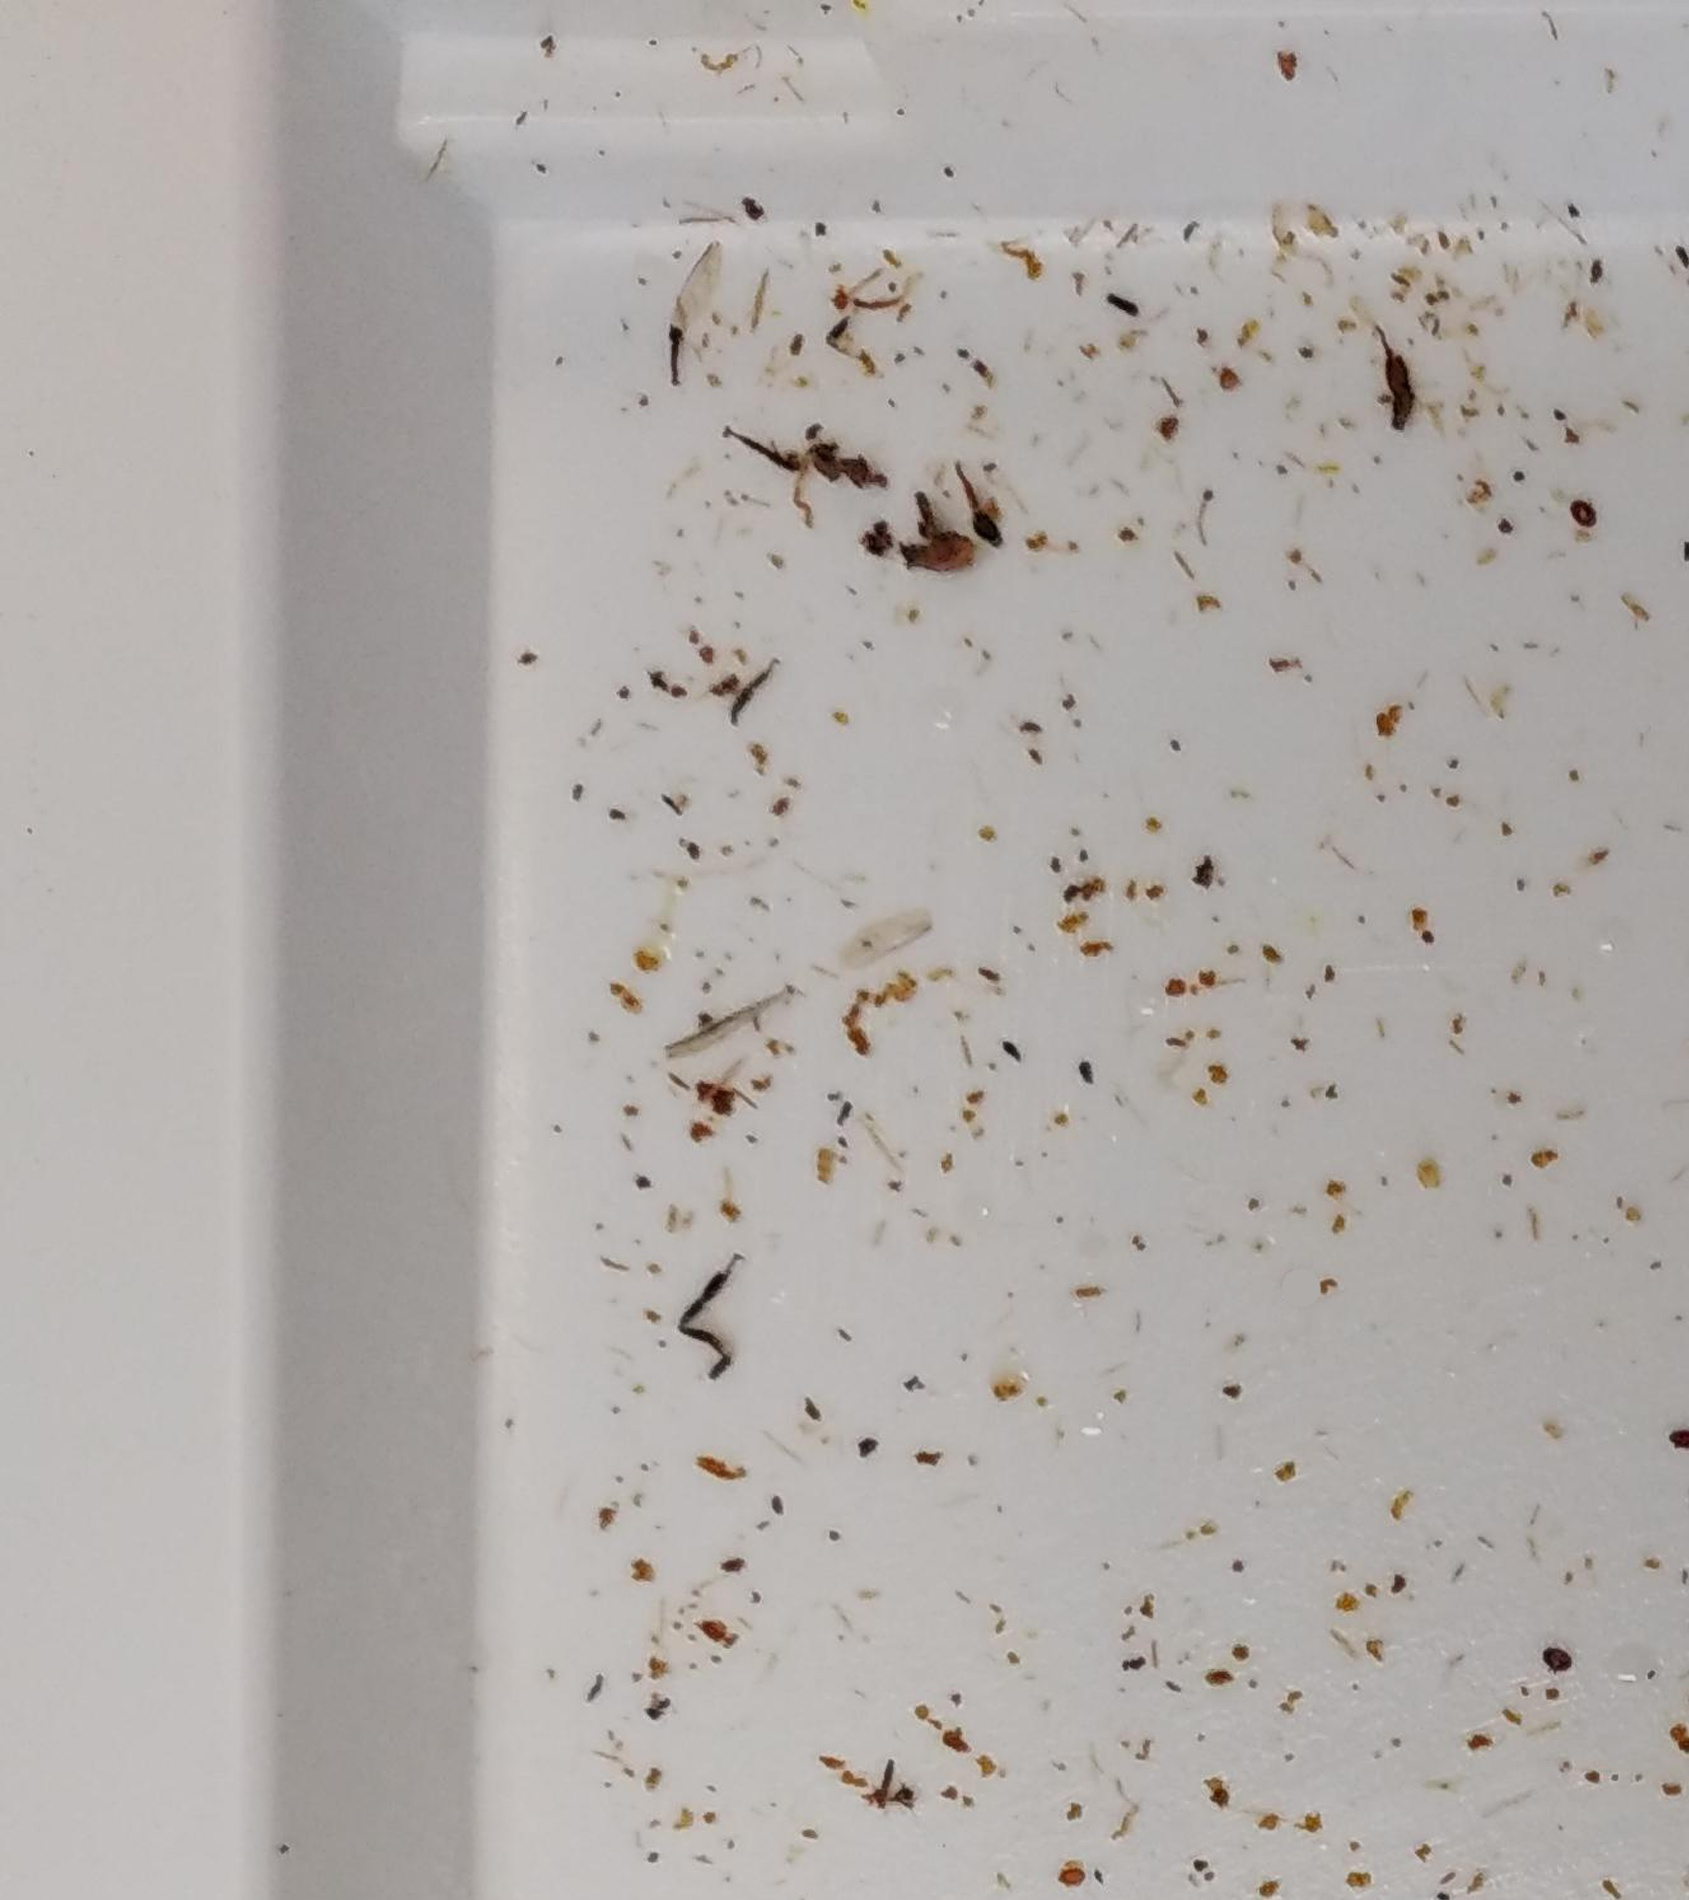Varroa: (1536, 1642, 1567, 1672), (1581, 504, 1599, 527)
